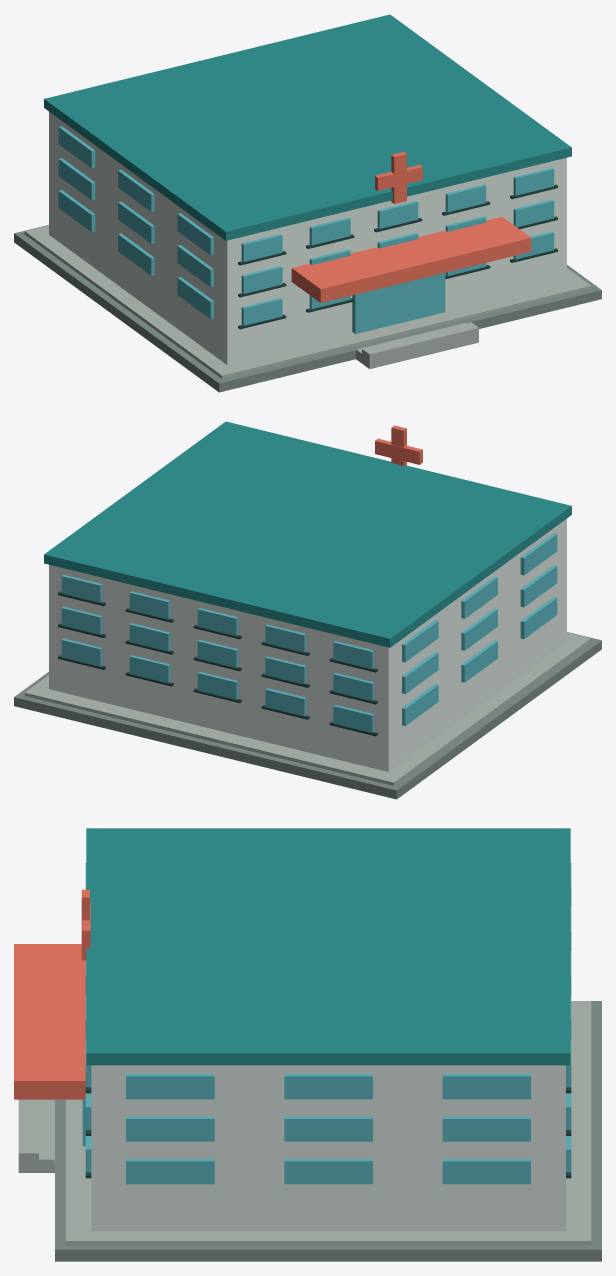
The model's file is hospital_lv1.glb.
3 views of the same model, one above another, from view 1: azimuth 30°, elevation 25°; view 2: azimuth 150°, elevation 25°; view 3: azimuth 270°, elevation 25° (orthographic). The views are drawn at different scales.
Parts seen in each view (by area): view 1: teal, white, glass, concrete, coral, pavement, dark; view 2: teal, white, glass, pavement, concrete, dark, coral; view 3: teal, white, glass, concrete, pavement, coral.
Part boxes in pixels (x1=…): teal: x1=44, y1=14, x2=571, y2=240; white: x1=49, y1=112, x2=566, y2=364; glass: x1=58, y1=126, x2=554, y2=333; concrete: x1=24, y1=225, x2=591, y2=378; coral: x1=291, y1=152, x2=531, y2=302; pavement: x1=14, y1=225, x2=601, y2=392; dark: x1=238, y1=184, x2=557, y2=329; teal: x1=44, y1=421, x2=571, y2=647; white: x1=49, y1=519, x2=566, y2=771; glass: x1=61, y1=533, x2=557, y2=732; pavement: x1=14, y1=632, x2=601, y2=799; concrete: x1=24, y1=632, x2=591, y2=785; dark: x1=58, y1=591, x2=377, y2=736; coral: x1=375, y1=425, x2=422, y2=465; teal: x1=86, y1=828, x2=570, y2=1065; white: x1=91, y1=1065, x2=565, y2=1231; glass: x1=82, y1=863, x2=571, y2=1184; concrete: x1=18, y1=1001, x2=591, y2=1245; pavement: x1=55, y1=1001, x2=601, y2=1261; coral: x1=14, y1=889, x2=90, y2=1099.
Size of the model in its own units: 9.8 by 4.47 by 9.79.
